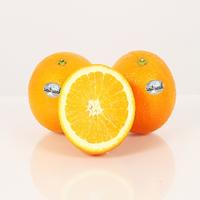orange: (23, 47, 182, 154)
